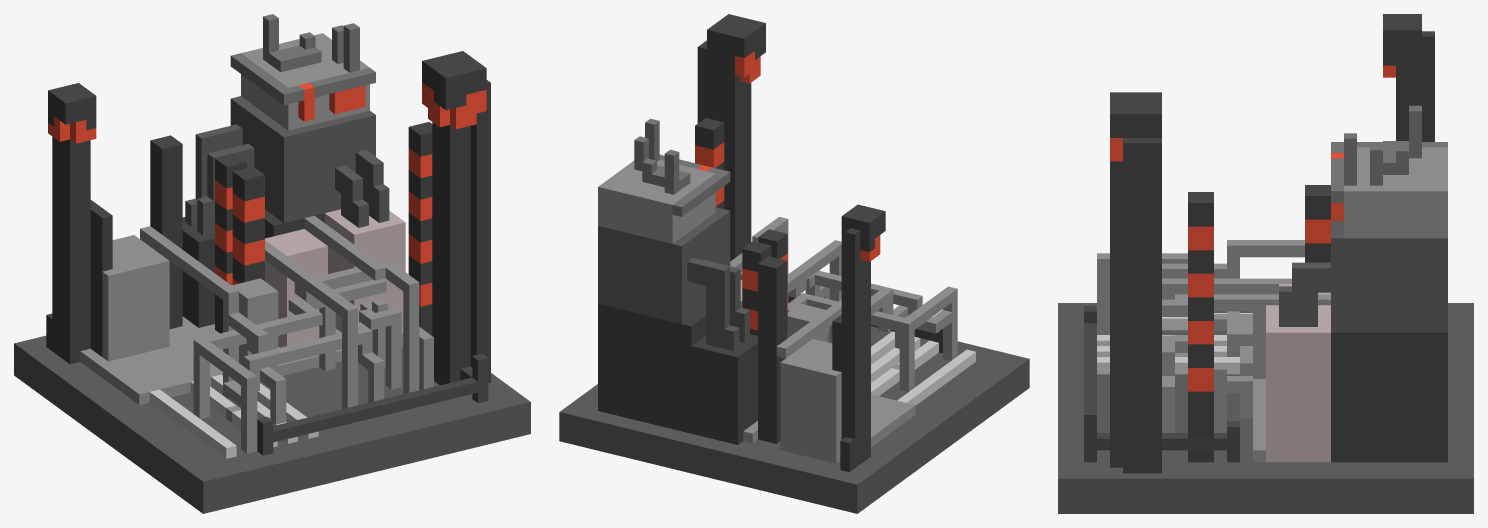
File: _g_powerplant.obj
3 views of the same model, side by side, from view 1: azimuth 30°, elevation 25°; view 2: azimuth 150°, elevation 25°; view 3: azimuth 270°, elevation 25° (orthographic). The views are drawn at different scales.
Size of the model in its own units: 3.2 by 3.3 by 3.2.
